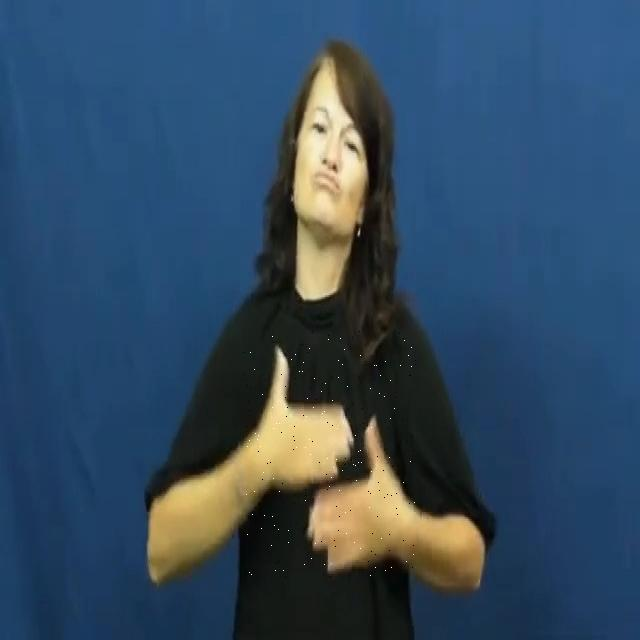enjoy: (244, 331, 416, 580)
